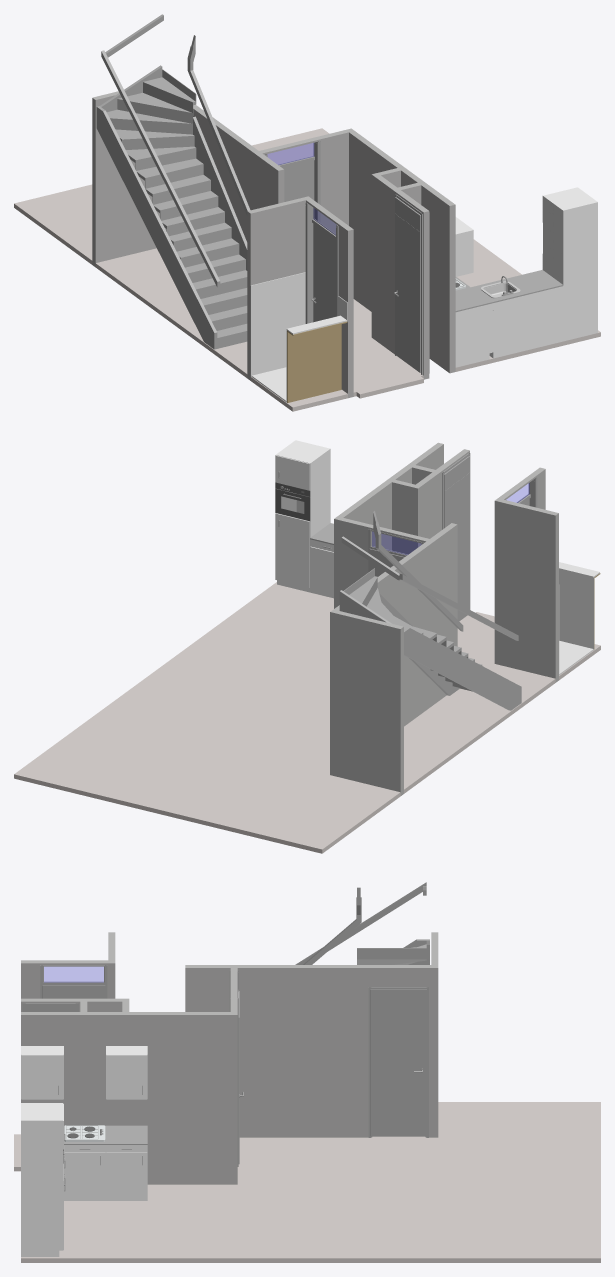
The picture shows the model from 3 angles, top to bottom: view 1: azimuth 30°, elevation 25°; view 2: azimuth 150°, elevation 25°; view 3: azimuth 270°, elevation 25°; orthographic projection. The views are drawn at different scales.
Parts seen in each view (by area): view 1: [3324505]Stairs 1, [3324499]43_zandcementvloer_70, [3324541]22_kalkzandsteen_100, [3324651]keukenkast met combimagnetron, [3324535]22_kalkzandsteen_100, [3324632]22_kalkzandsteen_100, [3324531]22_kalkzandsteen_100, [3324539]22_kalkzandsteen_100, [3324581]42_tegelwand_150x150x10, [3324654]keukenkast 615, [3324550]opdek, [3324566]42_Beplating_18_WBP (+12 smaller); view 2: [3324499]43_zandcementvloer_70, [3324632]22_kalkzandsteen_100, [3324531]22_kalkzandsteen_100, [3324539]22_kalkzandsteen_100, [3324651]keukenkast met combimagnetron, [3324505]Stairs 1, [3324541]22_kalkzandsteen_100, [3324565]42_tegelwand_150x150x10, [3324550]opdek, [3324535]22_kalkzandsteen_100, [3324537]22_kalkzandsteen_100, [3324650]keukenkast 600 (+7 smaller); view 3: [3324499]43_zandcementvloer_70, [3324539]22_kalkzandsteen_100, [3324541]22_kalkzandsteen_100, [3324548]opdek, [3324651]keukenkast met combimagnetron, [3324655]keukenkast 600, [3324656]keukenkast 600, [3324654]keukenkast 615, [3324563]32.31_Svedex_Match_BO1_2315_880_2650, [3324505]Stairs 1, [3324533]22_kalkzandsteen_100, [3324535]22_kalkzandsteen_100 (+7 smaller).
Boxes of the visible parts, x1,y1,x2,y2 form: [3324505]Stairs 1: (96,65,247,349); [3324499]43_zandcementvloer_70: (14,128,600,411); [3324541]22_kalkzandsteen_100: (346,128,455,373); [3324651]keukenkast met combimagnetron: (542,187,597,341); [3324535]22_kalkzandsteen_100: (371,173,429,379); [3324632]22_kalkzandsteen_100: (92,91,159,267); [3324531]22_kalkzandsteen_100: (247,196,311,380); [3324539]22_kalkzandsteen_100: (193,104,284,241); [3324581]42_tegelwand_150x150x10: (250,272,305,376); [3324654]keukenkast 615: (455,217,493,367); [3324550]opdek: (394,214,420,372); [3324566]42_Beplating_18_WBP: (287,324,341,402); [3324499]43_zandcementvloer_70: (14,582,600,853); [3324632]22_kalkzandsteen_100: (336,611,403,795); [3324531]22_kalkzandsteen_100: (494,498,558,682); [3324539]22_kalkzandsteen_100: (330,523,457,776); [3324651]keukenkast met combimagnetron: (275,440,330,592); [3324505]Stairs 1: (339,568,521,710); [3324541]22_kalkzandsteen_100: (334,442,443,608); [3324565]42_tegelwand_150x150x10: (559,569,594,649); [3324550]opdek: (444,473,469,621); [3324535]22_kalkzandsteen_100: (412,449,469,551); [3324537]22_kalkzandsteen_100: (340,518,429,590); [3324650]keukenkast 600: (310,523,333,598); [3324499]43_zandcementvloer_70: (14,1102,600,1262); [3324539]22_kalkzandsteen_100: (185,965,438,1137); [3324541]22_kalkzandsteen_100: (21,1012,237,1184); [3324548]opdek: (370,989,426,1136); [3324651]keukenkast met combimagnetron: (21,1103,65,1256); [3324655]keukenkast 600: (106,1046,147,1200); [3324656]keukenkast 600: (64,1125,105,1200); [3324654]keukenkast 615: (21,1046,63,1099); [3324563]32.31_Svedex_Match_BO1_2315_880_2650: (40,965,107,998); [3324505]Stairs 1: (357,939,429,964); [3324533]22_kalkzandsteen_100: (21,960,108,998); [3324535]22_kalkzandsteen_100: (21,998,129,1011).
Bounding box in the file's own units: 5.3 × 3.97 × 8.4.
